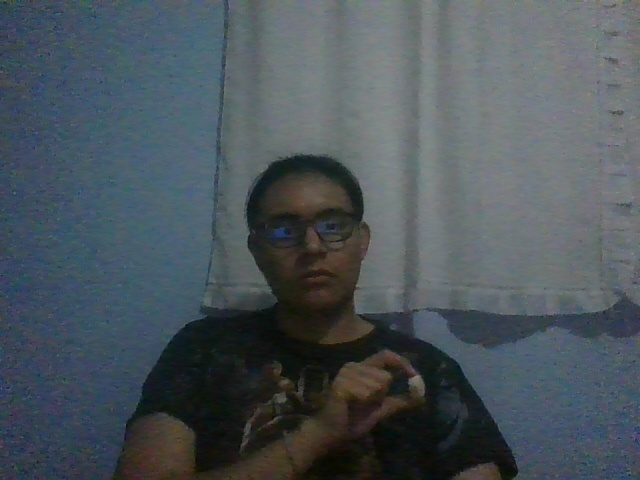goma: (406, 374, 426, 400)
